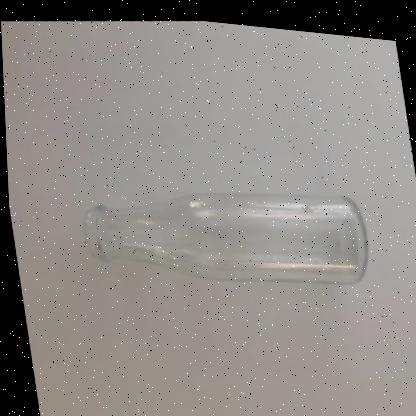Glass: (82, 188, 365, 276)
